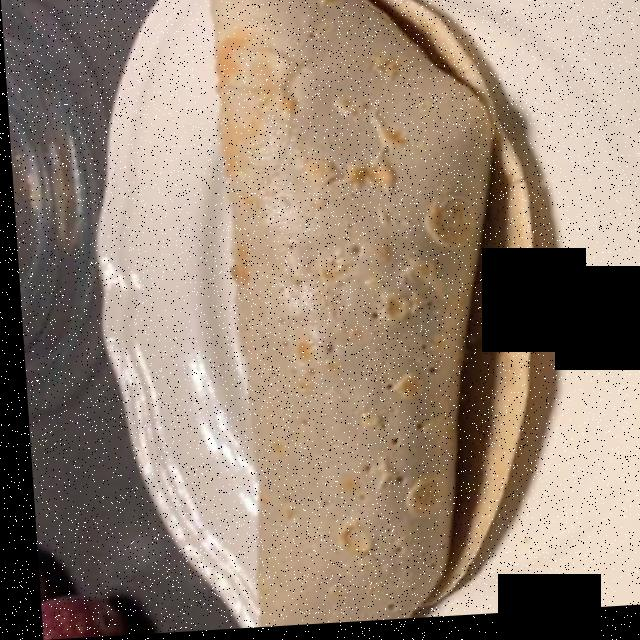crepe-plain: (212, 0, 488, 604)
